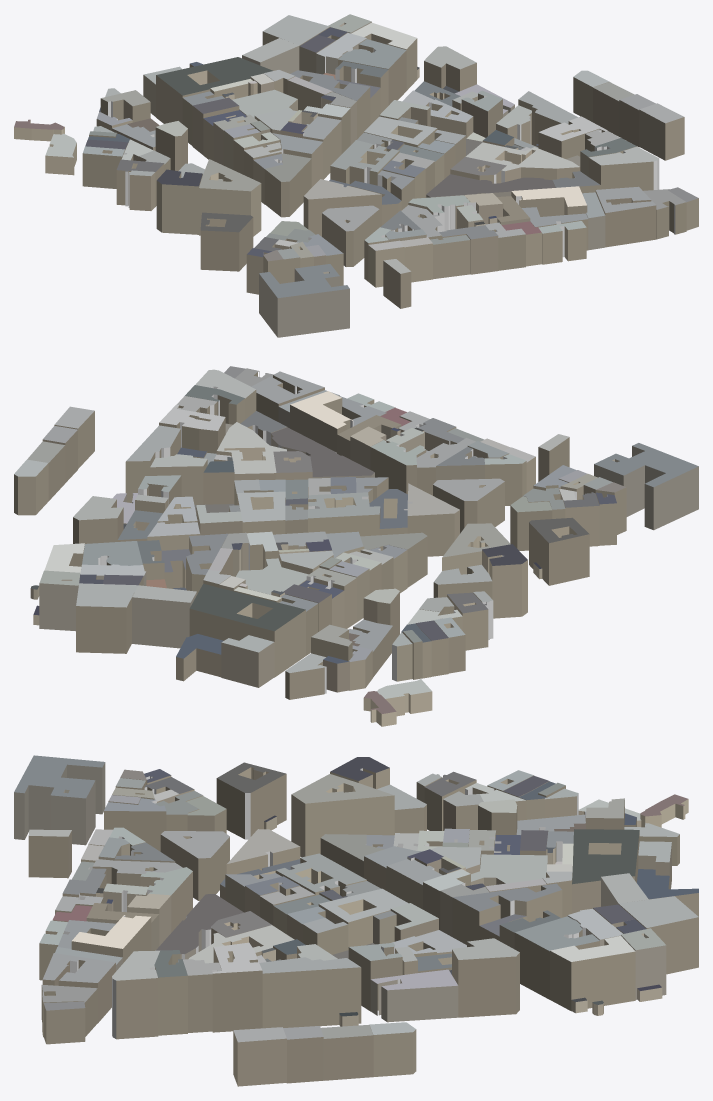
The picture shows the model from 3 angles, top to bottom: view 1: azimuth 30°, elevation 25°; view 2: azimuth 150°, elevation 25°; view 3: azimuth 270°, elevation 25°; orthographic projection. The views are drawn at different scales.
Visible parts, largest first — view 1: tuile; view 2: tuile; view 3: tuile.
Part boxes in pixels (x1,y1,x2,y2): tuile: [14, 14, 698, 337]; tuile: [14, 366, 698, 726]; tuile: [14, 755, 698, 1086].
Bounding box in the file's own units: 269 × 33.87 × 274.
